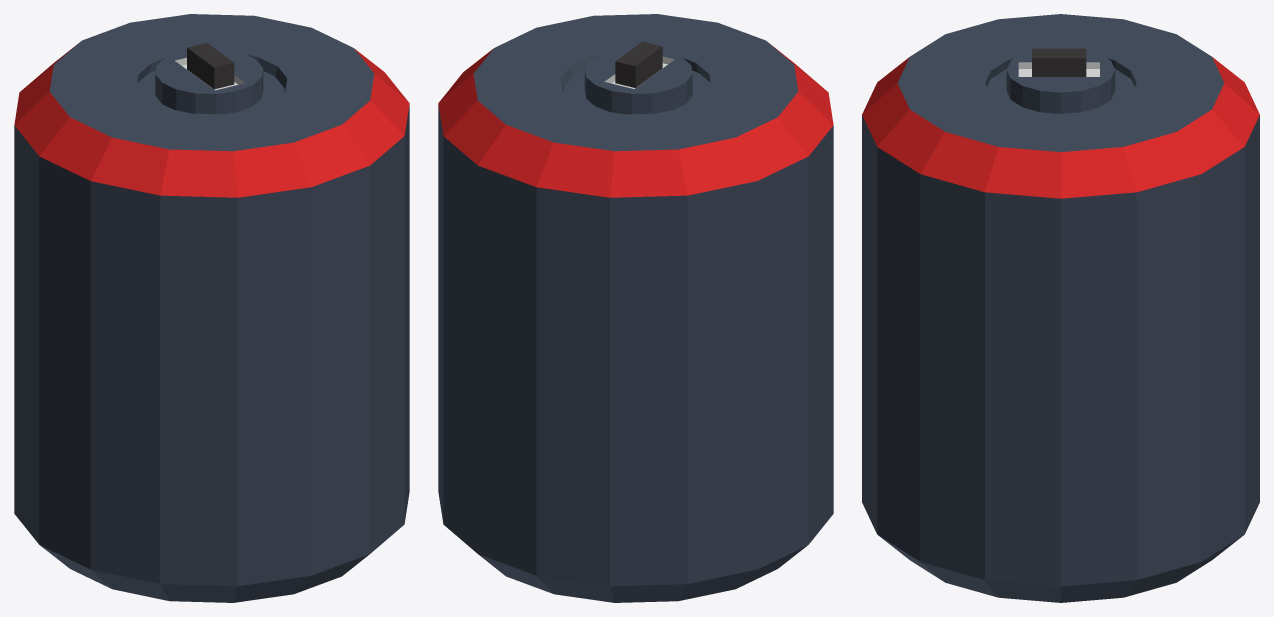
File: AmmoPack2.fbx
The picture shows the model from 3 angles, left to right: view 1: azimuth 30°, elevation 25°; view 2: azimuth 150°, elevation 25°; view 3: azimuth 270°, elevation 25°; orthographic projection.
Visible parts, largest first — view 1: Cylinder; view 2: Cylinder; view 3: Cylinder.
Part boxes in pixels (left/top/right/bottom): Cylinder: left=14, top=14, right=409, bottom=602; Cylinder: left=438, top=14, right=833, bottom=602; Cylinder: left=862, top=14, right=1259, bottom=602.
Size of the model in its own units: 200 by 266 by 200.
